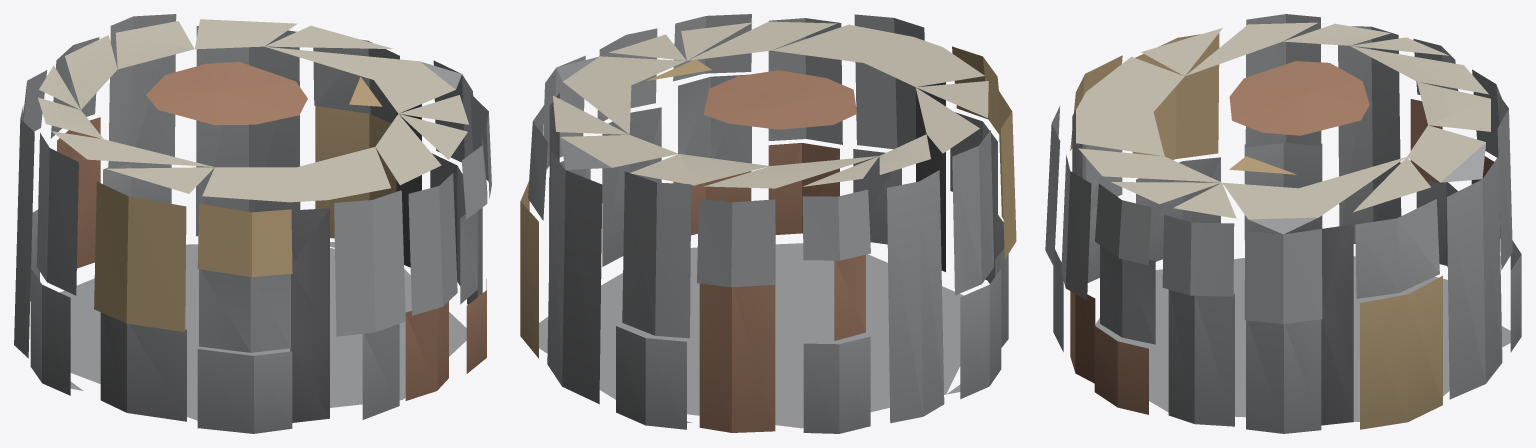
File: petrified.lod.glb
3 renders of one model, left to right at view 1: azimuth 30°, elevation 25°; view 2: azimuth 150°, elevation 25°; view 3: azimuth 270°, elevation 25°, orthographic. The views are drawn at different scales.
Parts seen in each view (by area): view 1: petrified; view 2: petrified; view 3: petrified.
Part boxes in pixels (x1,y1,x2,y2): petrified: [14, 14, 491, 433]; petrified: [520, 14, 1016, 433]; petrified: [1045, 14, 1521, 433].
Size of the model in its own units: 2.4 by 1.3 by 2.4.
